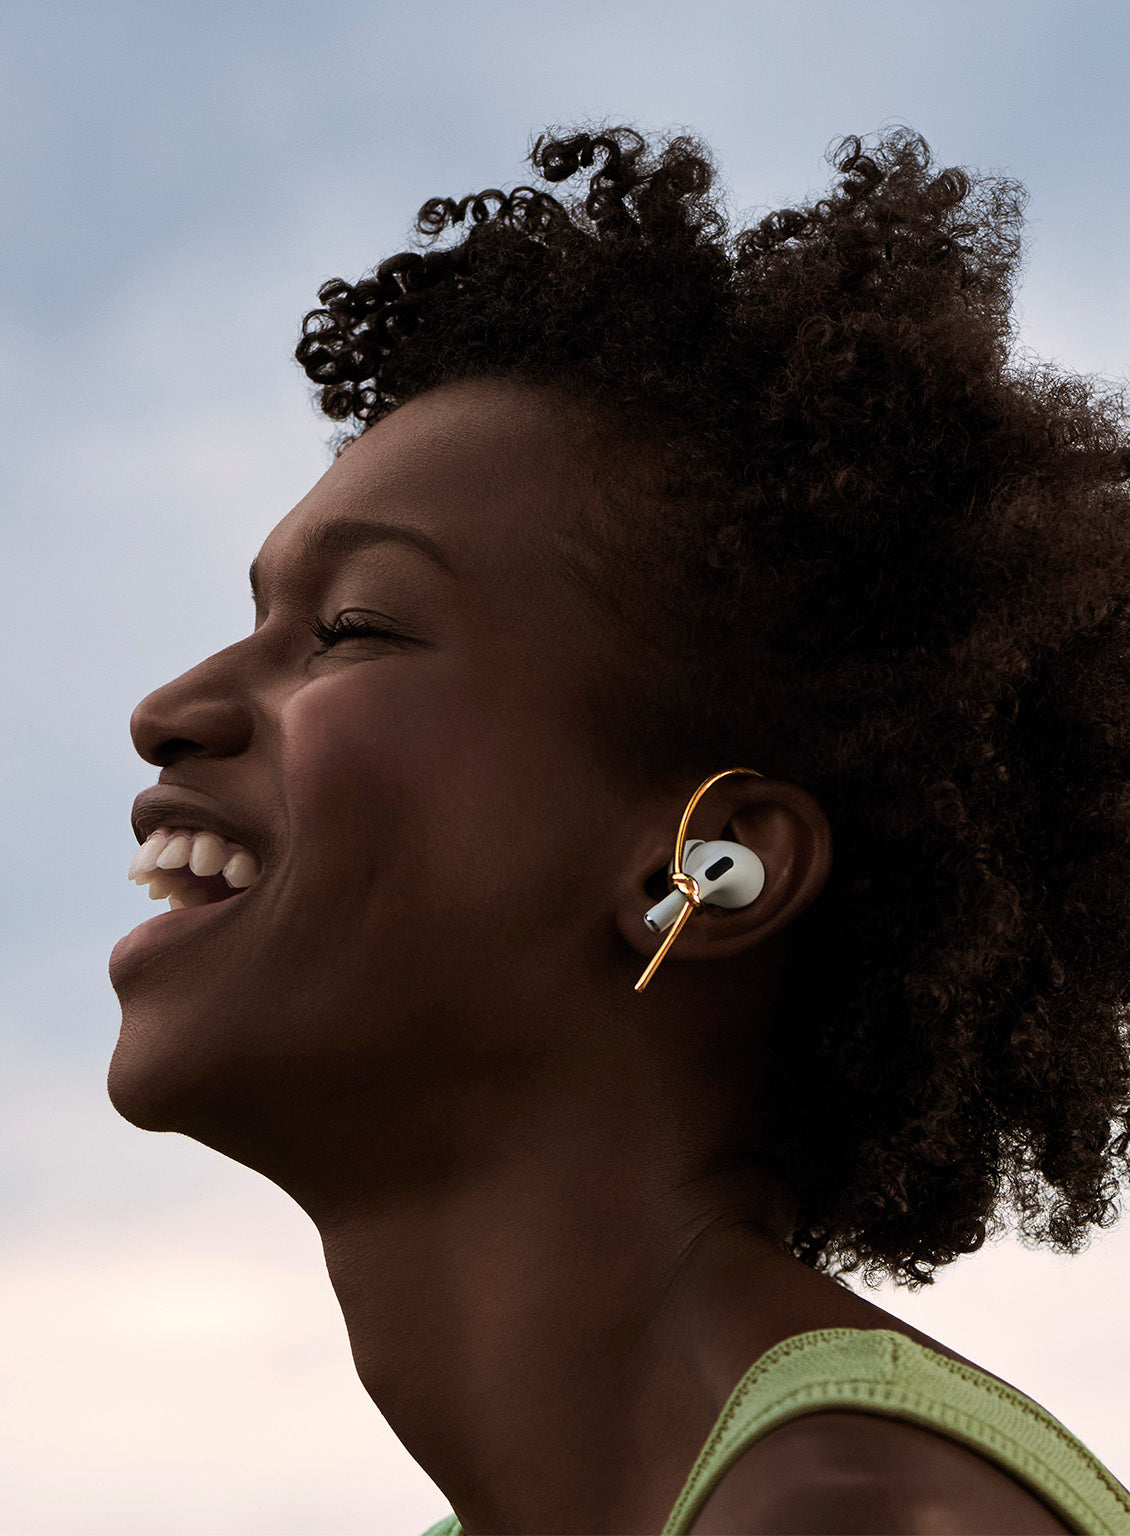earphone: (619, 774, 836, 959)
